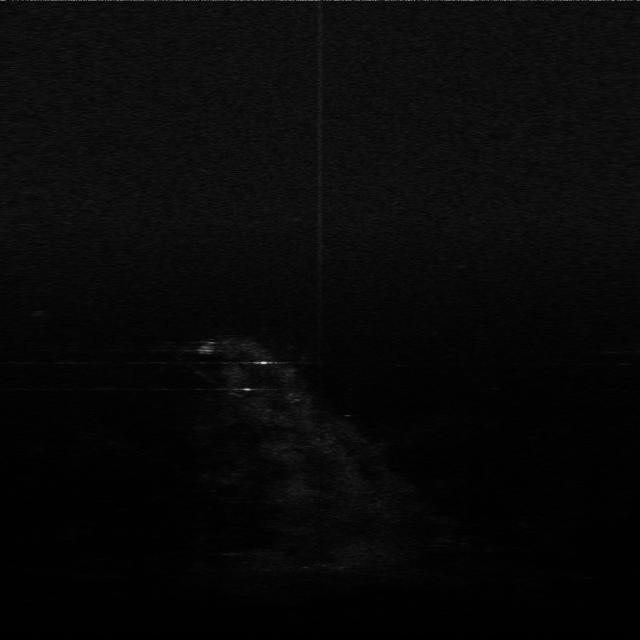rov: (197, 338, 224, 358)
